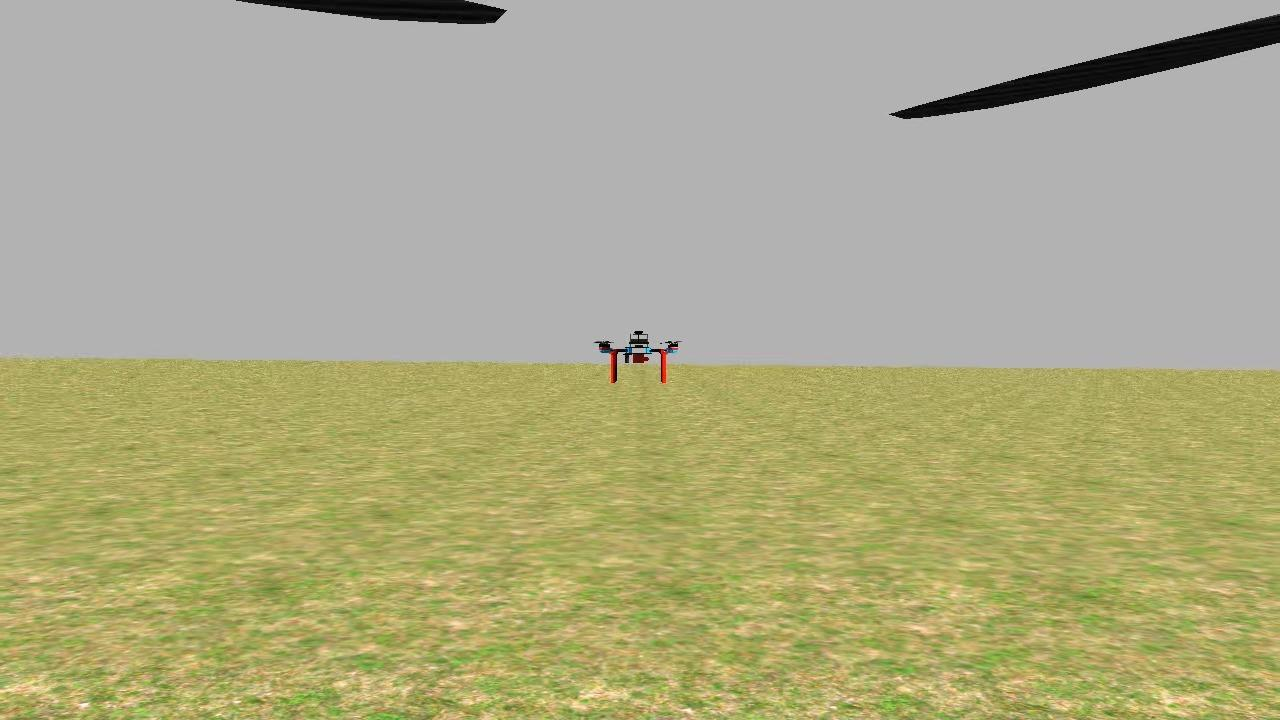UAV: (582, 327, 694, 402)
